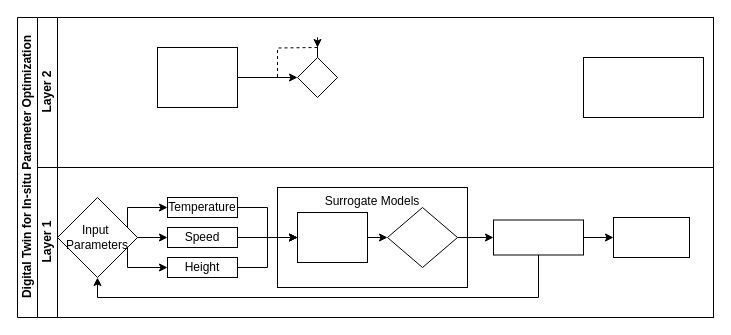
This 731x335 diagram has some shape labels left out. The centre of each missing label's shape, as x and y in pixels:
Human Decision: (422,237)
Optimized Parameters: (538,237)
Printer: (651,237)
Trial and experiment: (332,237)
